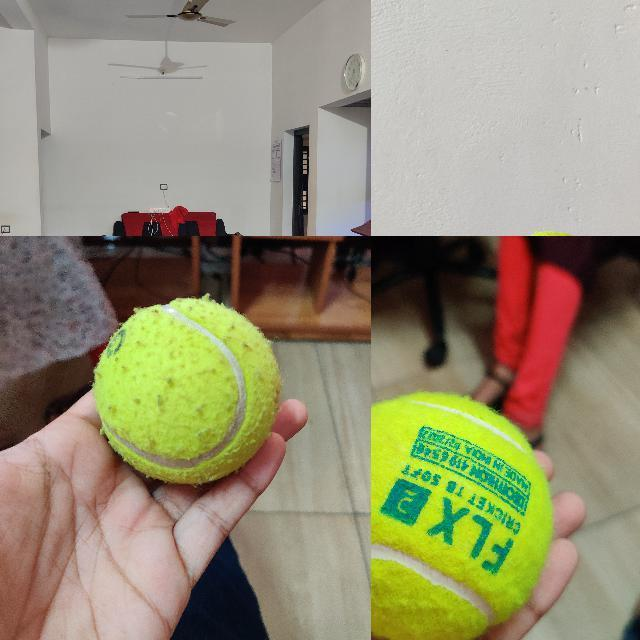tennis-ball: (371, 395, 552, 639), (93, 297, 282, 483)
